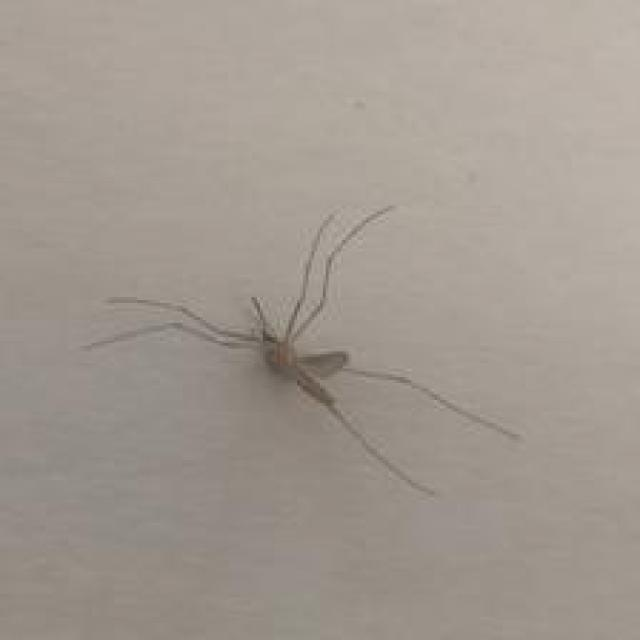Culex: (82, 202, 524, 498)
